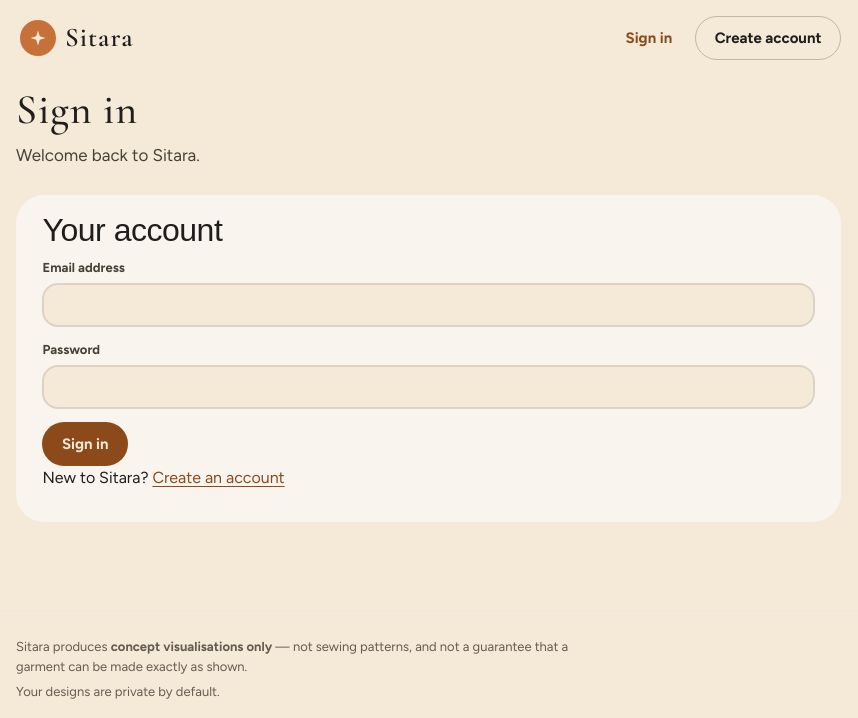
it: login page › renders a generic accessible message for invalid credentials
Type "bride@example.com" into the field labelled "Email address" at (428, 305), box [42,283,814,327]
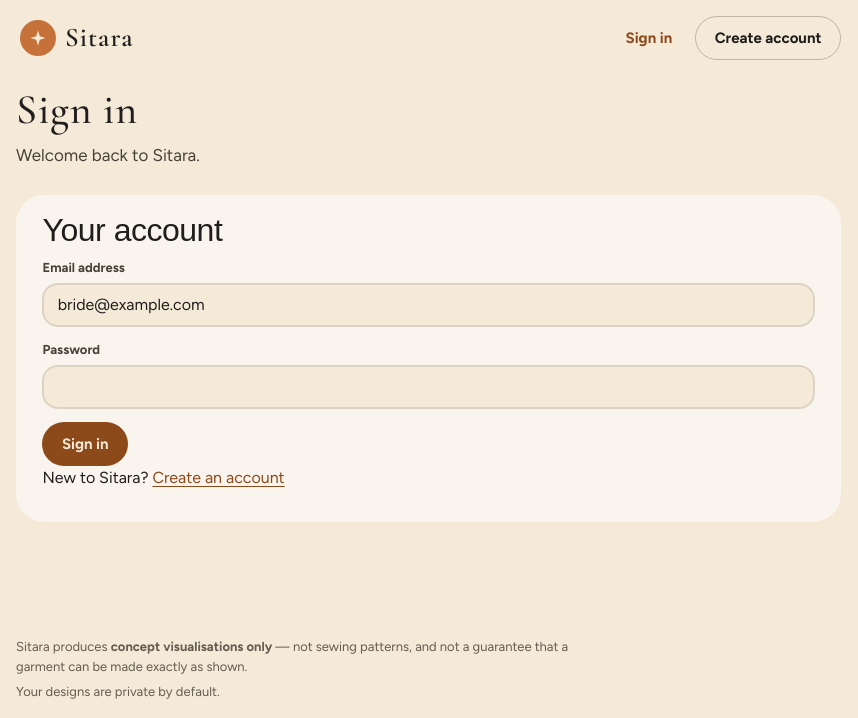
Type "Correct-Horse-Battery-2026!" into the password field labelled "Password" at (428, 387), box [42,365,814,409]
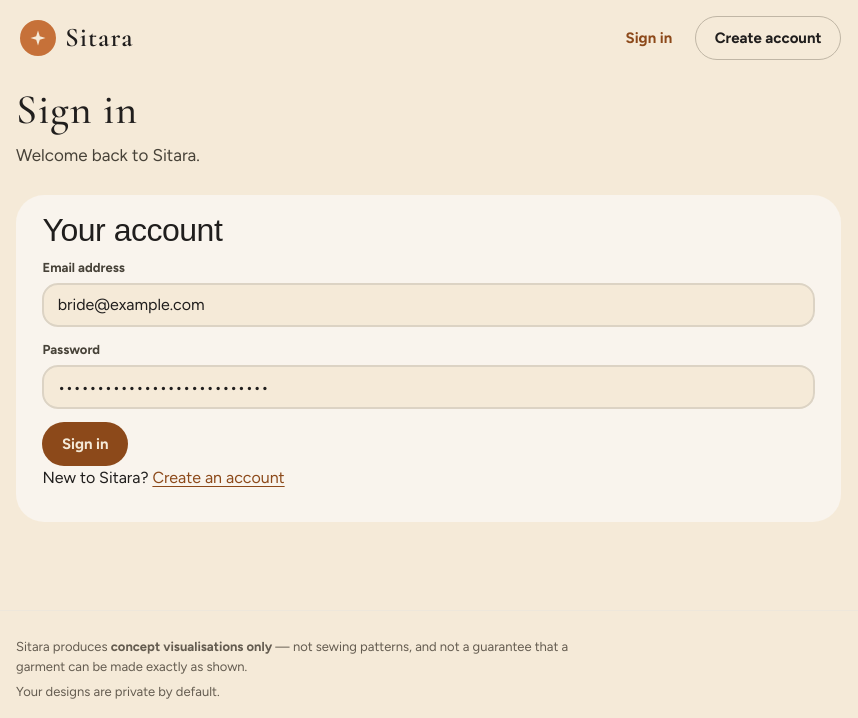
Click the button "Sign in" at (85, 444), box [42,422,128,466]
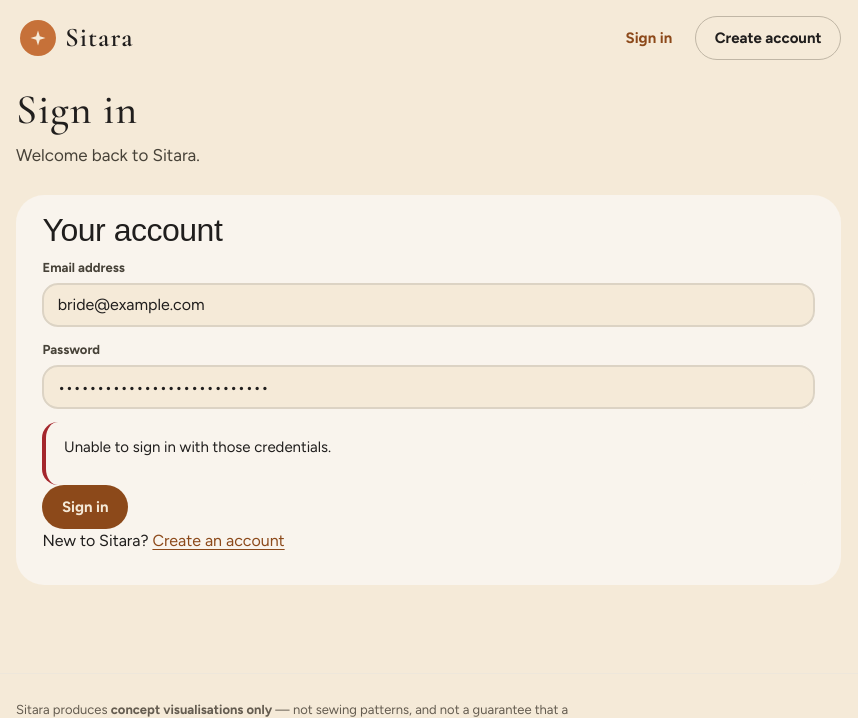
Check: the message reads "Unable to sign in with those credentials.", box [64,438,331,456]
